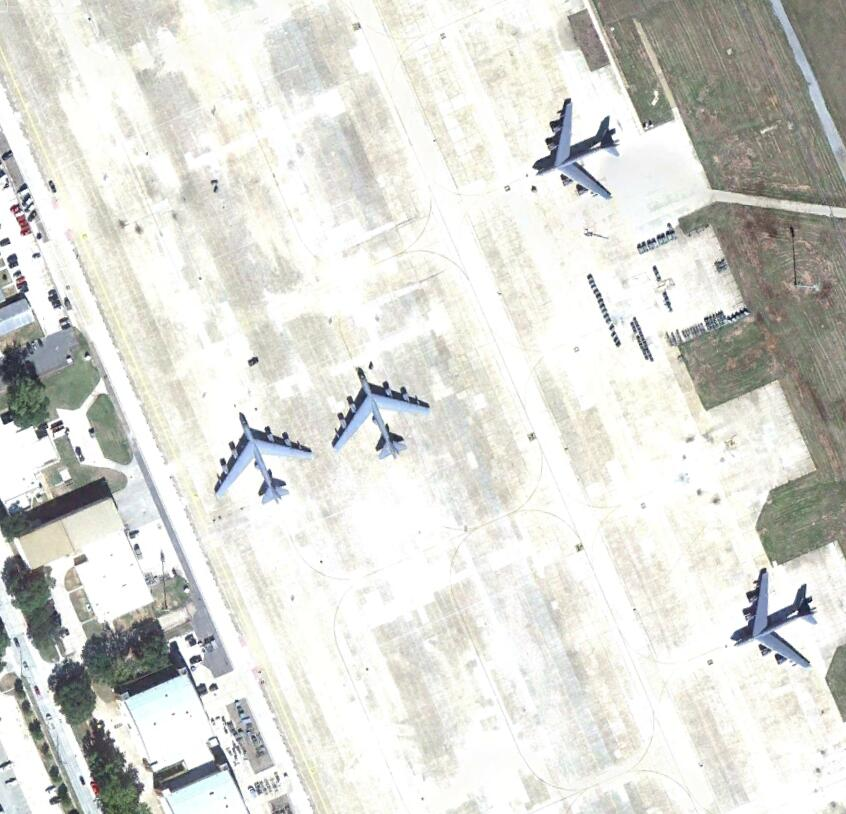A8: (211, 410, 317, 507), (325, 367, 433, 461), (531, 97, 625, 202), (732, 565, 818, 673)
